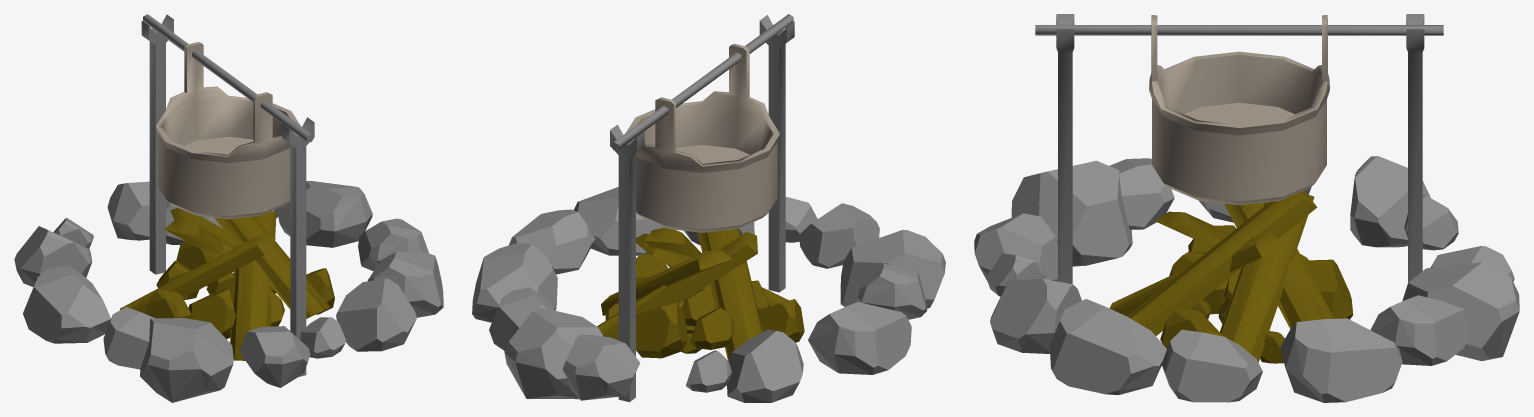
File: fireplace_with_pot.fbx
3 renders of one model, left to right at view 1: azimuth 30°, elevation 25°; view 2: azimuth 150°, elevation 25°; view 3: azimuth 270°, elevation 25°, orthographic. The views are drawn at different scales.
Parts seen in each view (by area): view 1: Pot, stone_5, stone_4, stone_13, stone, Halterung, Halterung_1, stone_12, wood_4, stone_7, wood_3, stone_10 (+16 smaller); view 2: Pot, stone_4, stone_2, stone_10, stone_5, Halterung, Halterung_1, stone, stone_9, stone_12, wood_5, stone_14 (+15 smaller); view 3: Pot, stone_7, stone, stone_5, stone_2, wood_3, stone_14, wood_2, stone_8, stone_13, stone_10, Cylinder (+14 smaller).
Boxes of the visible parts, box(x1,y1,x2,y2) form: Pot: box(155, 42, 300, 219); stone_5: box(140, 318, 233, 402); stone_4: box(23, 265, 110, 343); stone_13: box(336, 278, 416, 351); stone: box(277, 181, 372, 247); Halterung: box(141, 14, 173, 274); Halterung_1: box(282, 117, 314, 376); stone_12: box(239, 326, 310, 387); wood_4: box(230, 211, 276, 360); stone_7: box(367, 252, 443, 317); wood_3: box(214, 216, 330, 318); stone_10: box(14, 226, 92, 287); Pot: box(625, 43, 779, 232); stone_4: box(808, 302, 911, 374); stone_2: box(504, 307, 602, 399); stone_10: box(727, 329, 803, 402); stone_5: box(840, 229, 945, 308); Halterung: box(610, 124, 644, 402); Halterung_1: box(759, 15, 794, 292); stone: box(472, 243, 557, 322); stone_9: box(562, 334, 640, 400); stone_12: box(799, 203, 879, 268); wood_5: box(697, 228, 763, 361); stone_14: box(509, 209, 595, 274); Pot: box(1149, 15, 1329, 205); stone_7: box(1049, 299, 1166, 394); stone: box(1280, 318, 1402, 402); stone_5: box(1011, 160, 1132, 266); stone_2: box(1402, 262, 1519, 361); wood_3: box(1127, 190, 1317, 335); stone_14: box(1161, 329, 1262, 402); wood_2: box(1220, 194, 1314, 362); stone_8: box(1370, 295, 1467, 365); stone_13: box(990, 278, 1081, 353); stone_10: box(1350, 156, 1430, 247); Cylinder: box(1035, 25, 1443, 35).
Size of the model in its own units: 1.81 by 1.23 by 1.87.
